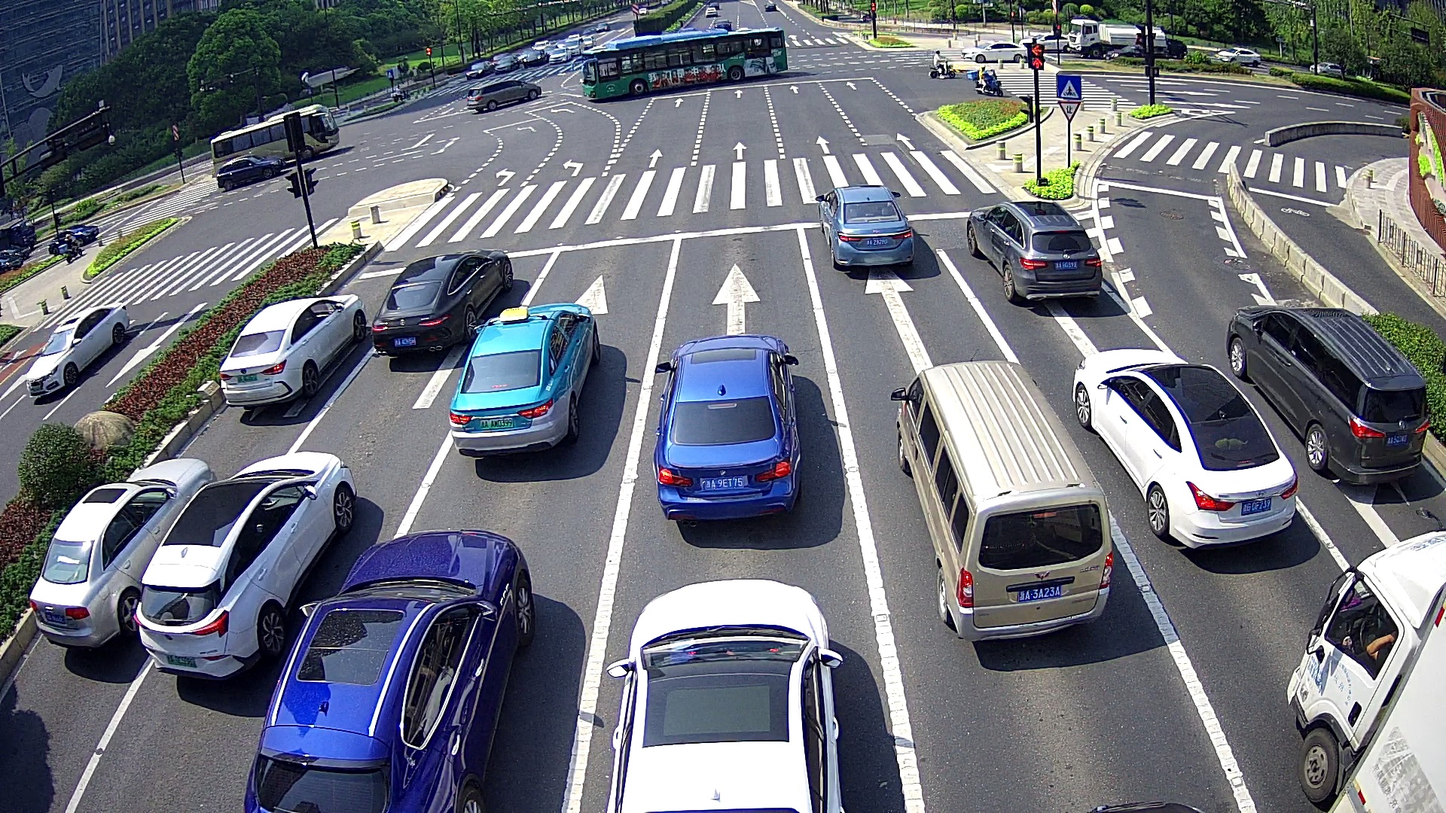vehicle: (236, 526, 544, 808), (886, 358, 1115, 647), (591, 574, 848, 810), (133, 446, 362, 682), (1064, 342, 1301, 555), (1277, 527, 1446, 808), (1226, 297, 1429, 489), (26, 458, 220, 653), (645, 331, 806, 518), (446, 303, 597, 457), (216, 290, 368, 410), (960, 194, 1105, 303), (575, 27, 794, 99), (366, 247, 511, 355), (23, 300, 134, 399), (209, 102, 346, 177), (813, 181, 922, 273), (465, 75, 545, 114), (213, 150, 286, 188)
